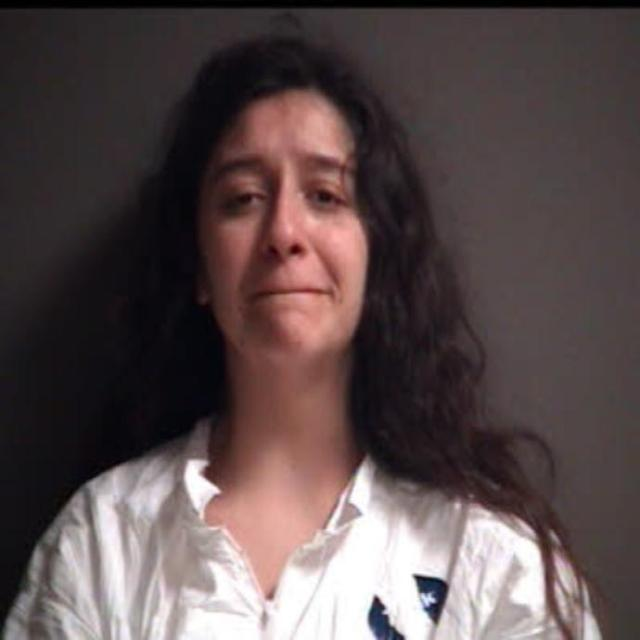mobile_phonerotation: (2, 31, 612, 637)
